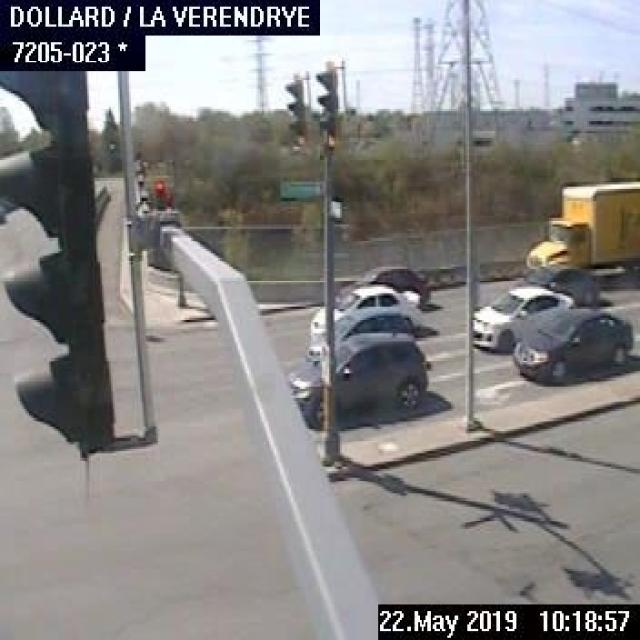vehicle: (285, 333, 429, 422), (523, 180, 636, 286), (512, 311, 630, 377), (306, 304, 420, 362), (469, 286, 573, 348), (313, 284, 423, 332), (514, 264, 597, 308), (350, 262, 428, 306)
